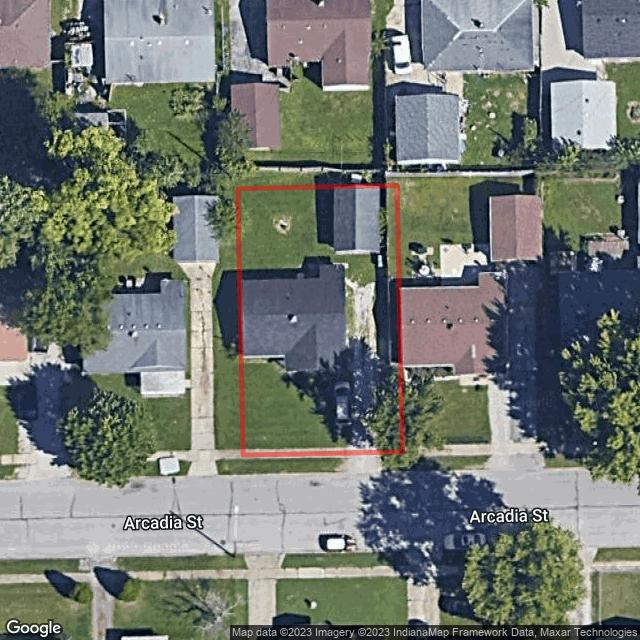Driveway: (343, 276, 386, 451)
Extra Driveway: (335, 455, 387, 473)
Extra Lawn: (241, 458, 345, 475), (379, 455, 405, 471)
Extra Sidewalk: (241, 456, 346, 460)
House: (242, 265, 347, 371)
Other: (334, 190, 380, 252), (244, 355, 285, 366), (272, 215, 292, 234)
Sidewalk: (245, 447, 350, 452)
